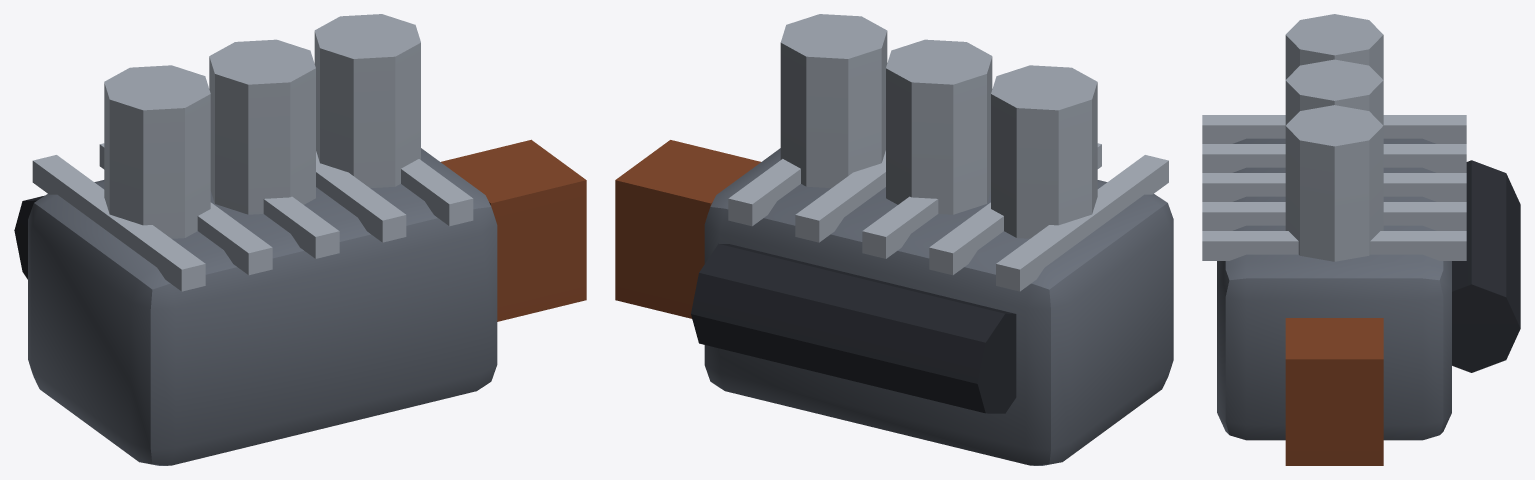
Rendered from item_engine.glb.
The picture shows the model from 3 angles, left to right: view 1: azimuth 30°, elevation 25°; view 2: azimuth 150°, elevation 25°; view 3: azimuth 270°, elevation 25°; orthographic projection. The views are drawn at different scales.
Parts seen in each view (by area): view 1: item_engine, item_engine_detail; view 2: item_engine, item_engine_detail; view 3: item_engine, item_engine_detail.
Part boxes in pixels (left/top/right/bottom): item_engine: left=14, top=14, right=586, bottom=465; item_engine_detail: left=32, top=143, right=473, bottom=291; item_engine: left=615, top=14, right=1173, bottom=465; item_engine_detail: left=728, top=143, right=1168, bottom=291; item_engine: left=1217, top=14, right=1520, bottom=465; item_engine_detail: left=1202, top=115, right=1466, bottom=260.
Bounding box in the file's own units: 0.5 × 0.33 × 0.325.
